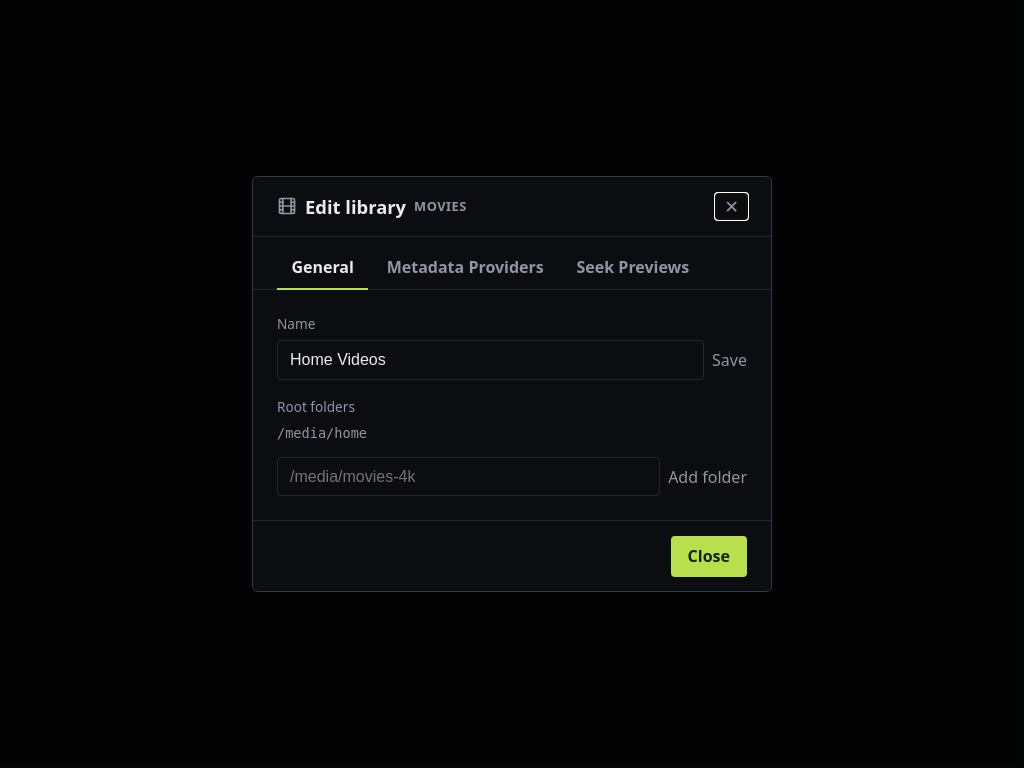
Test case: EditLibraryDialog tabs › switching to Metadata Providers mounts and lazy-loads the policy panel
What coordinates should you click on to do the following:
click the tab with test id "edit-library-tab-metadata-providers"
I would click on:
 (465, 268)
Its box is [372,245,558,290].
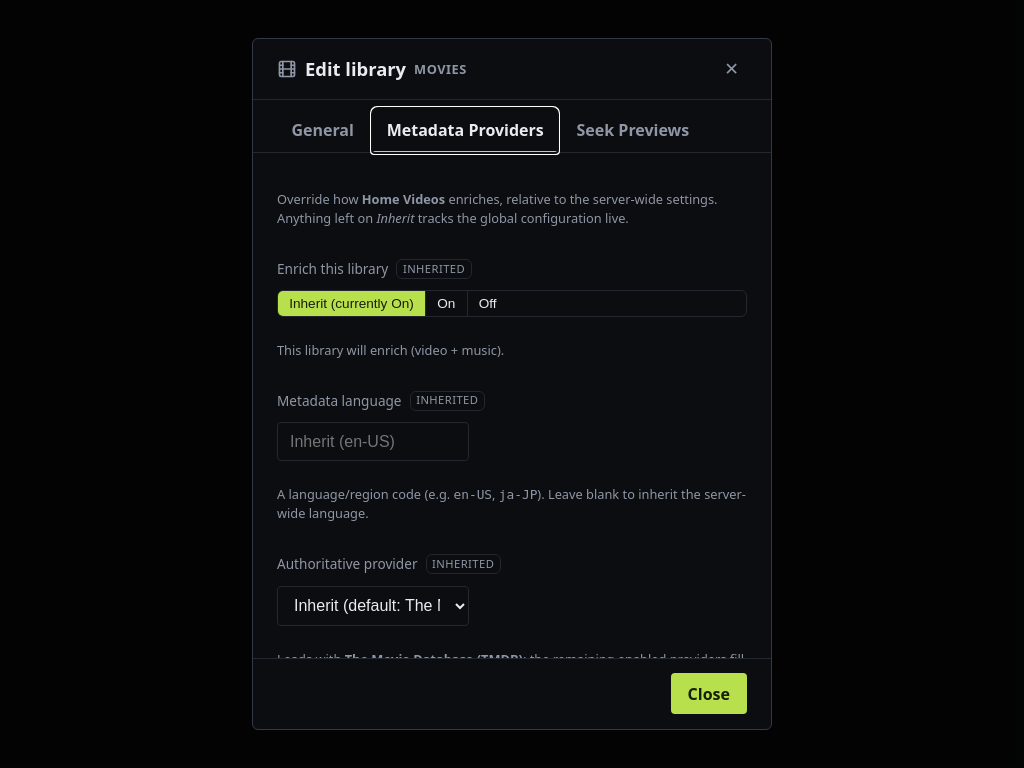
Now the element with test id "enrich-enabled-control" is shown, box [277,259,747,373]
Now the field with test id "edit-library-name-input" is gone
Note: Switching back shows General again.
What coordinates should you click on to do the following:
click the tab with test id "edit-library-tab-general"
I would click on:
 (323, 131)
Its box is [277,108,368,153].
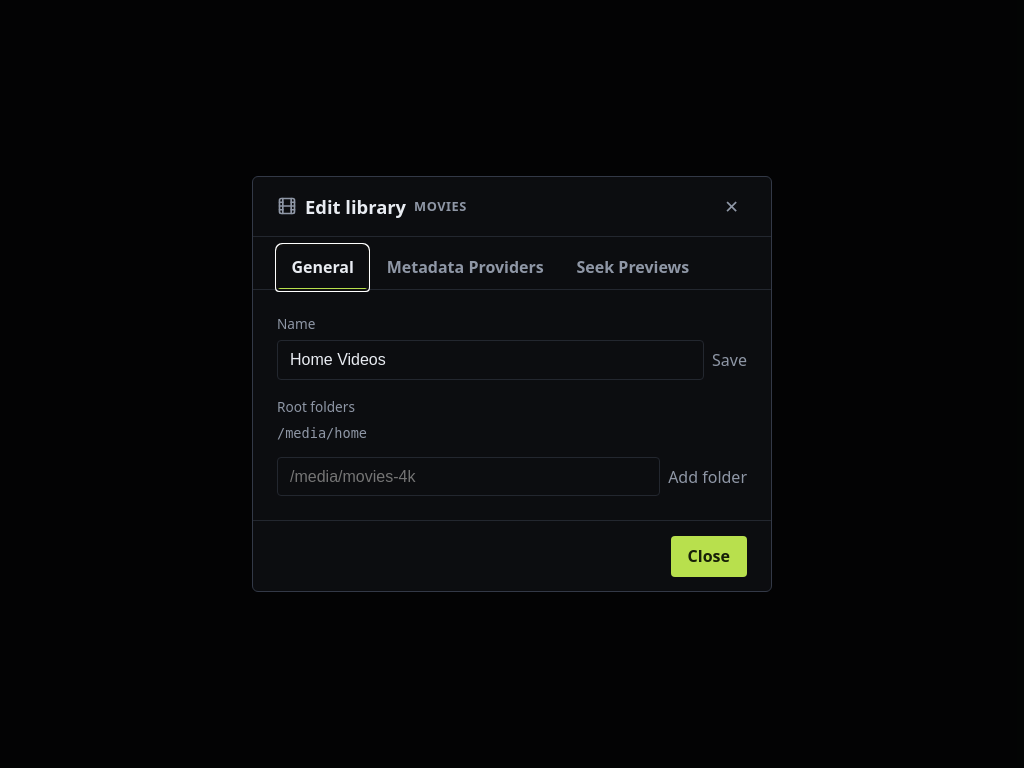
Now the field with test id "edit-library-name-input" is shown, box [277,340,704,380]
Now the element with test id "enrich-enabled-control" is gone
